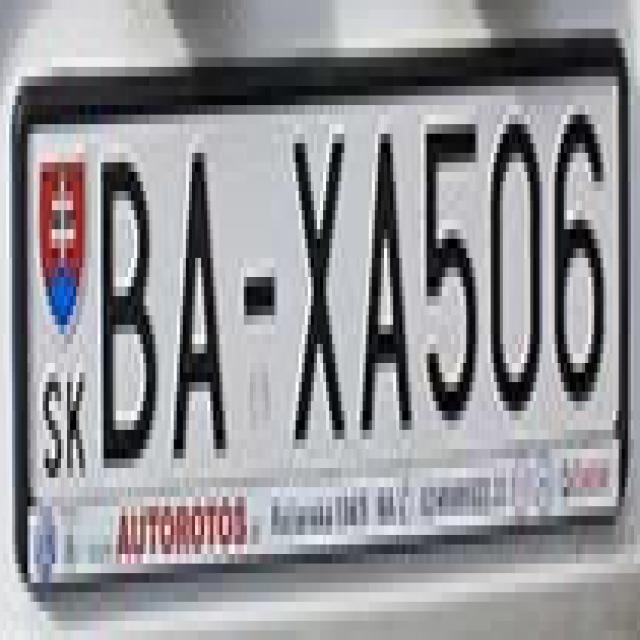Autre: (16, 83, 629, 530)
